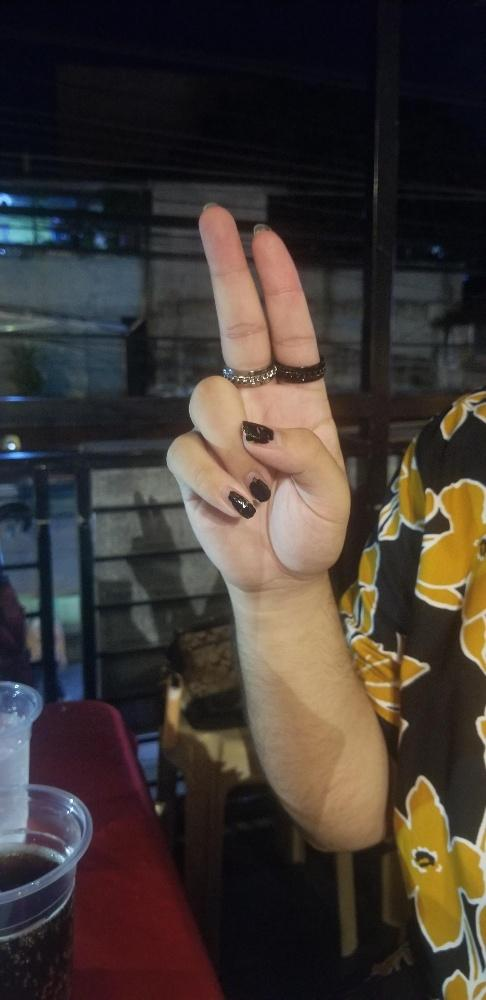u: (168, 200, 350, 583)
